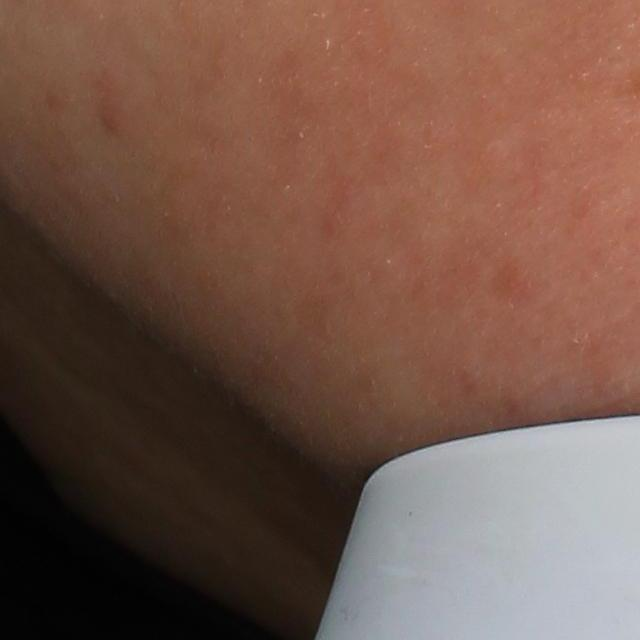papule: (98, 104, 127, 137)
